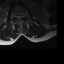CCS_normal: (18, 13, 20, 21)
LFS_stenosis: (22, 14, 24, 19)
LLS_normal: (20, 14, 22, 20)
RFS_stenosis: (15, 14, 17, 20)
RLS_normal: (16, 14, 18, 20)
